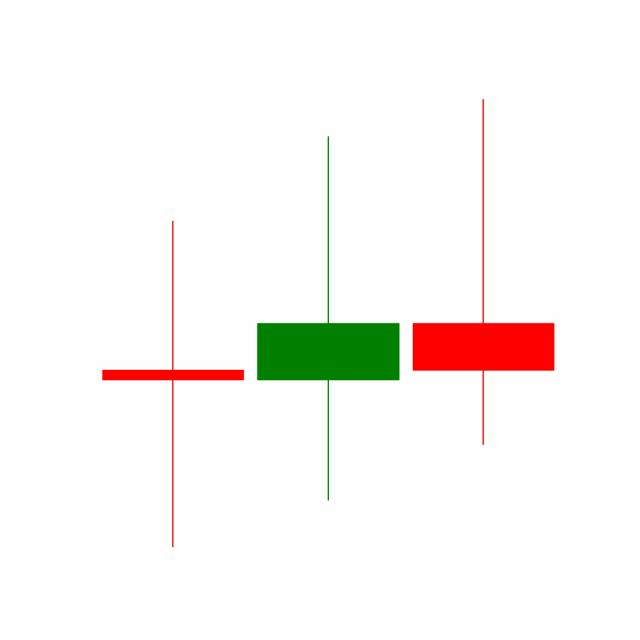Spinning Top: (249, 132, 406, 505)
